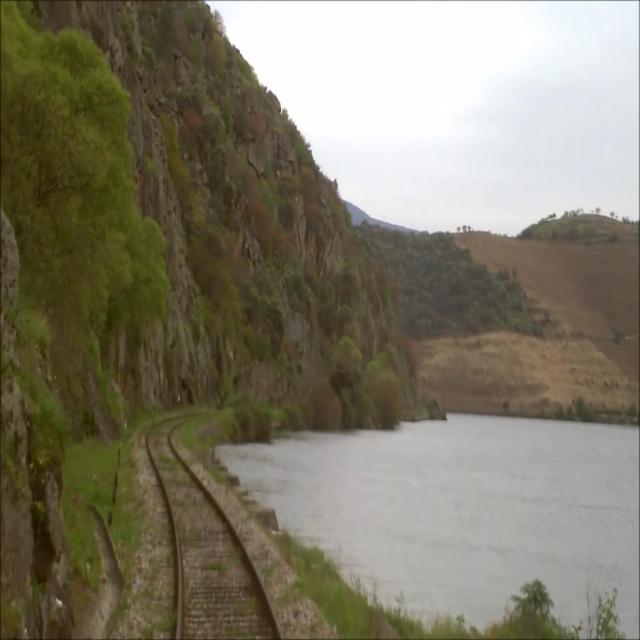rail-track: (151, 424, 278, 639)
